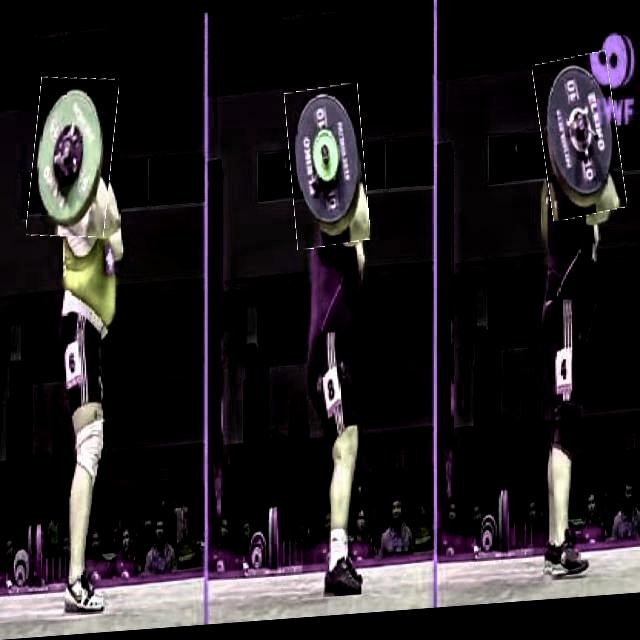barbell: (539, 61, 622, 230), (32, 76, 116, 242), (288, 91, 367, 255)
